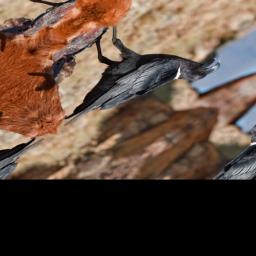Crow: (15, 0, 227, 153)
